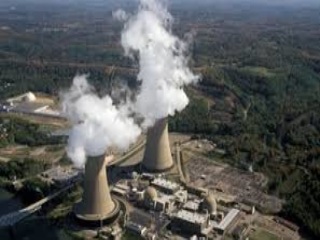smoke: (122, 9, 192, 127), (57, 86, 137, 162)
